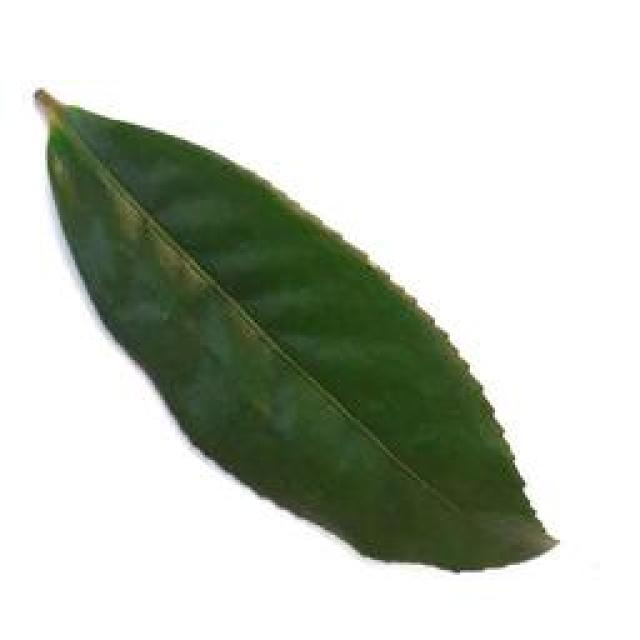Healthy: (24, 72, 562, 586)
